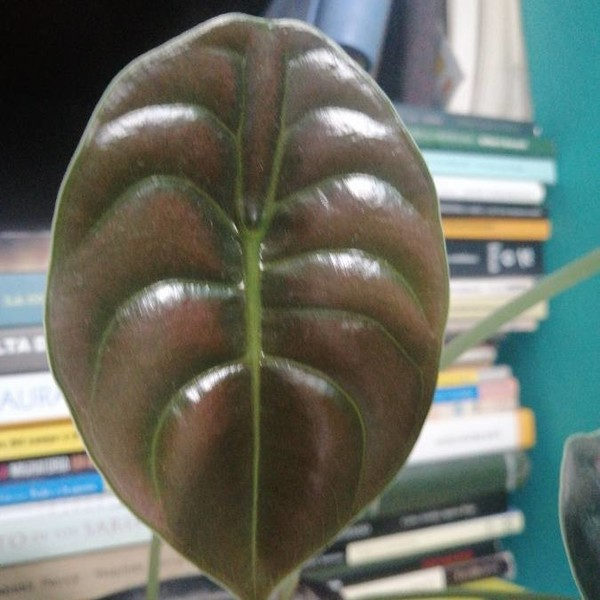obstacle: (61, 20, 464, 586)
